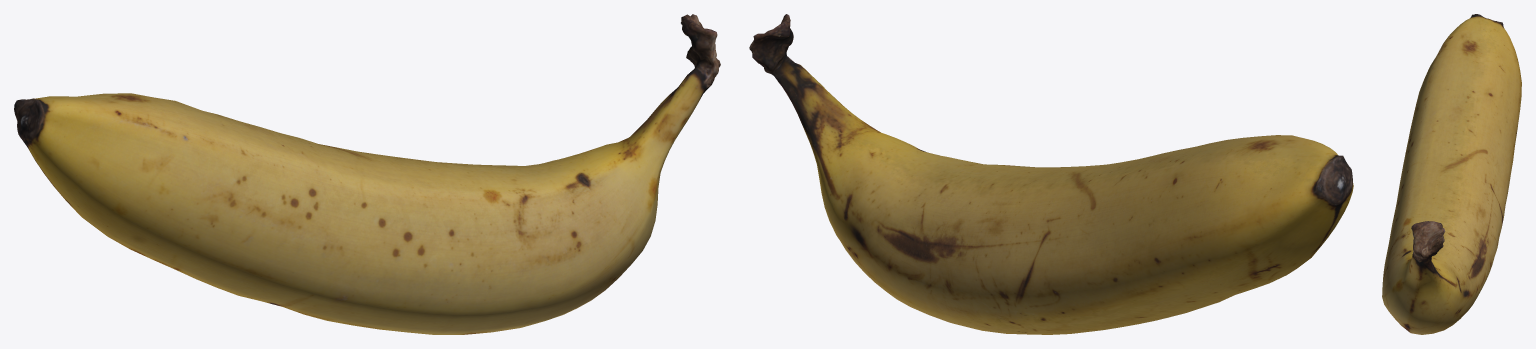
The model's file is banana2.fbx.
The picture shows the model from 3 angles, left to right: view 1: azimuth 30°, elevation 25°; view 2: azimuth 150°, elevation 25°; view 3: azimuth 270°, elevation 25°; orthographic projection. The views are drawn at different scales.
Parts seen in each view (by area): view 1: banana; view 2: banana; view 3: banana.
Boxes of the visible parts, box(x1,y1,x2,y2) form: banana: box(14, 14, 720, 334); banana: box(749, 14, 1353, 334); banana: box(1382, 14, 1521, 334).
Bounding box in the file's own units: 1.88 × 0.8165 × 0.5739.
1 material, 1 textured.
